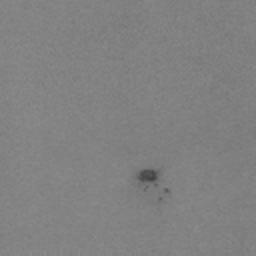Iron sheet ash: (136, 169, 160, 189)
